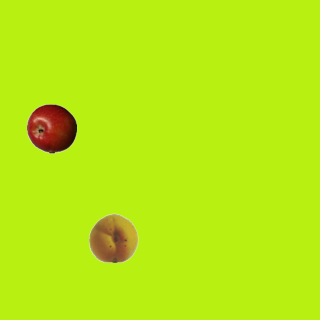Apple Braeburn: (26, 103, 76, 153)
Peach 2: (88, 212, 138, 262)
